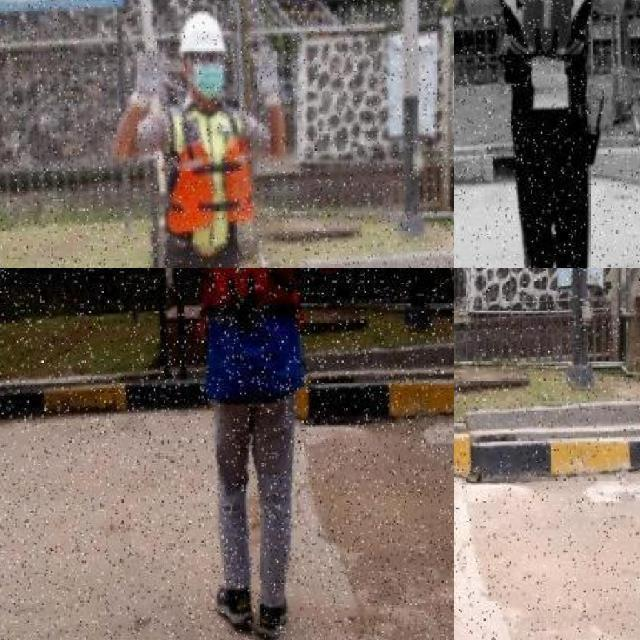apron: (129, 44, 169, 112), (250, 42, 284, 110)
